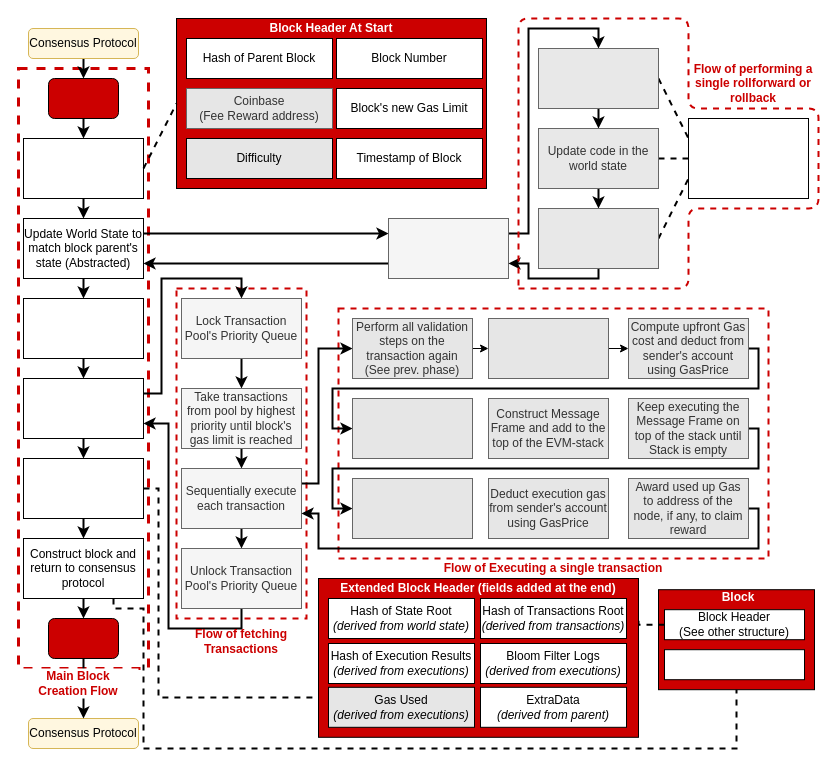
Some shapes in this 838 by 767 pixel diagram are drawn without their labels. The shapes that lost their labels are listed below. From the top down, each one's box as (x1, y1, x2, y2) in pixels, then its label:
(48, 78, 118, 118): Start Block Creation
(538, 48, 658, 108): Update accounts in the world state
(22, 138, 144, 198): Construct Preliminary Block Header
(688, 118, 808, 198): roll(...)Change ( Address, expectedValue, replacementValue )
(388, 218, 508, 278): Rollback / Rollforward until state matches desired block
(538, 208, 658, 268): Update Storage Entries in the world state
(22, 298, 144, 358): Retrieve reference to World State
(488, 318, 608, 378): Increment sender's nonce
(22, 378, 144, 438): Fetch Transactions (Abstracted)
(352, 398, 472, 458): Compute gas remaining for the block execution
(22, 458, 144, 518): Update block's header
(352, 478, 472, 538): If successful, update View-wrapper of world state
(48, 618, 118, 658): End
(664, 649, 804, 680): List<Transaction>
